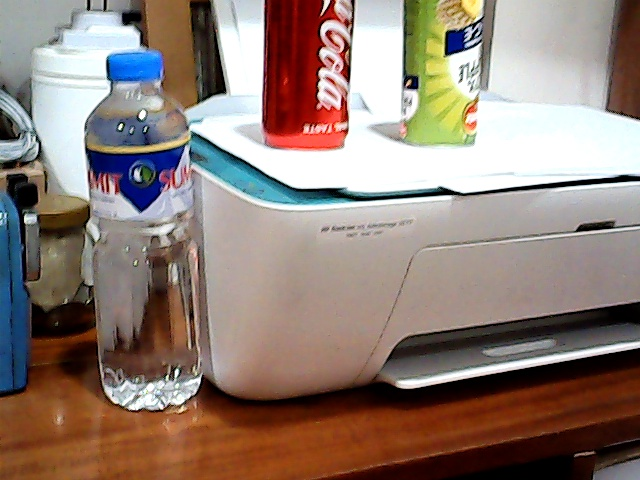Cola: (259, 1, 362, 154)
Pine Juice: (390, 1, 489, 150)
Summit Water: (85, 45, 214, 403)
